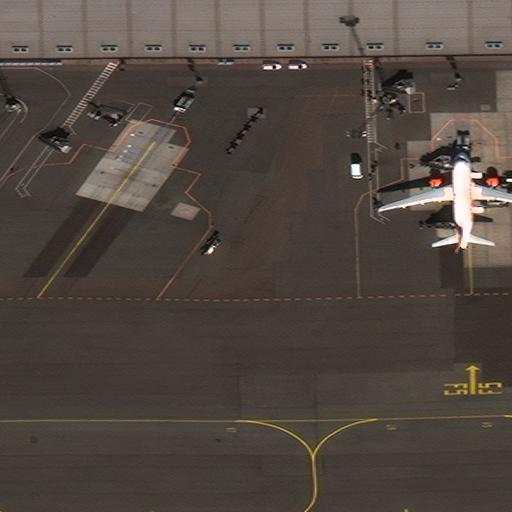Medium Civil Transport: (379, 151, 511, 251)
